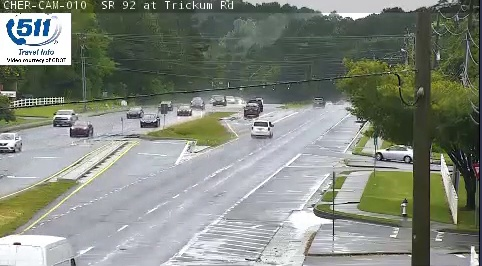car: (251, 121, 274, 138)
